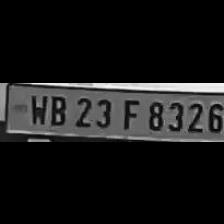2: (70, 93, 92, 126), (184, 98, 202, 132)
3: (92, 94, 114, 128), (164, 97, 184, 130)
6: (204, 99, 222, 131)
8: (144, 96, 164, 130)
B: (46, 91, 68, 125)
F: (117, 96, 141, 128)
W: (26, 92, 46, 124)
